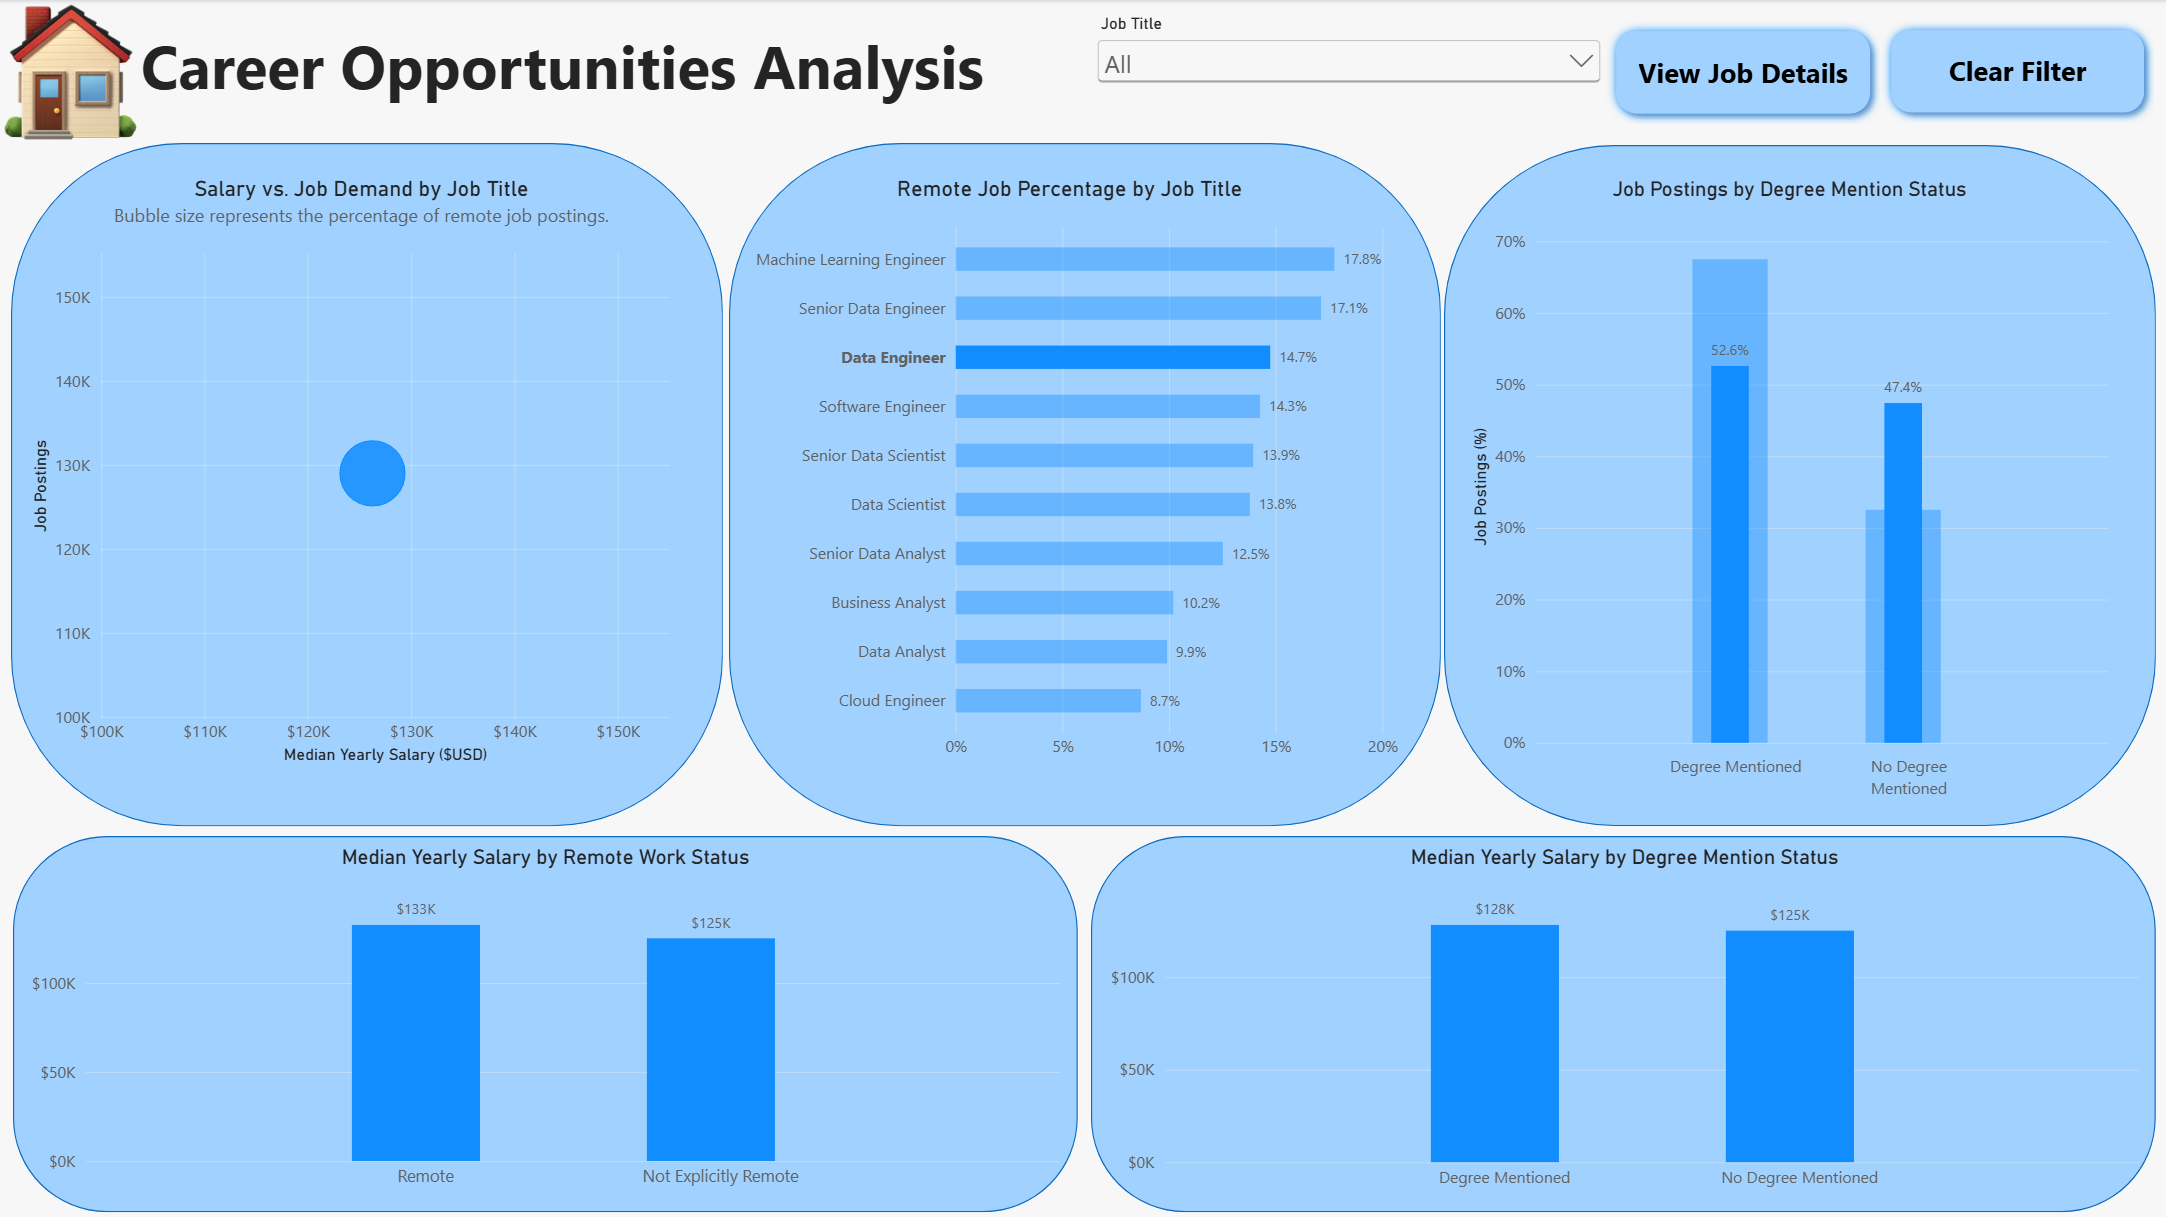

The dashboard page shown, as its layout file describes it:
{"tool":"powerbi","page":{"name":"Career Opportunities Analysis","canvas":[1920,1080],"ordinal":1},"visuals":[{"type":"group","id":"g1","title":"Background","box":[10.1,126.8,1898.9,946.7],"z":0},{"type":"shape","box":[10.1,126.8,630.3,604.9],"z":0,"group":"g1"},{"type":"scatterChart","title":"Salary vs. Job Demand by Job Title","fields":{"Category":["job_postings_flat.job_title_short"],"Size":["job_postings_flat.Remote Job %"],"X":["Median(job_postings_flat.salary_year_avg)"],"Y":["job_postings_flat.Job Count"]},"box":[11.9,141.3,617,550],"z":1000},{"type":"shape","box":[12.1,740.4,942.5,333],"z":1000,"group":"g1"},{"type":"shape","box":[645.4,126.8,630.3,604.9],"z":2000,"group":"g1"},{"type":"barChart","title":"Remote Job Percentage by Job Title","fields":{"Category":["job_postings_flat.job_title_short"],"Y":["job_postings_flat.Remote Job %"]},"box":[640.3,141.3,613.6,550.4],"z":2000},{"type":"shape","box":[1278.6,128.7,630.3,603],"z":3000,"group":"g1"},{"type":"columnChart","title":"Job Postings by Degree Mention Status","fields":{"Category":["job_postings_flat.Degree Mention Status"],"Y":["job_postings_flat.Job Count"]},"box":[1286.6,142.3,595.9,583],"z":3000},{"type":"columnChart","title":"Median Yearly Salary by Remote Work Status","fields":{"Category":["job_postings_flat.Remote Work Status"],"Y":["Median(job_postings_flat.salary_year_avg)"]},"box":[11.9,734.2,942.7,338.9],"z":4000},{"type":"shape","box":[966.4,740.4,942.5,333],"z":4000,"group":"g1"},{"type":"columnChart","title":"Median Yearly Salary by Degree Mention Status","fields":{"Category":["job_postings_flat.Degree Mention Status"],"Y":["Median(job_postings_flat.salary_year_avg)"]},"box":[966.4,734.2,942.7,338.9],"z":5000},{"type":"image","box":[0,0,125,126],"z":6000},{"type":"slicer","fields":{"Values":["job_postings_flat.job_title_short"]},"box":[966.7,12,455,110],"z":7000},{"type":"textbox","box":[125,20,778.4,87.4],"z":8000},{"type":"actionButton","box":[1422.1,18.2,242.9,91.1],"z":9000},{"type":"actionButton","box":[1665,18,242,91],"z":10000}]}

Visuals, with their boxes in screenshot pixels (x1, y1, x2, y2), scaled from the page's 1920x1080 canvas onto the 2166x1217 screenshot:
"Background" group: box=[11, 143, 2154, 1210]
shape: box=[11, 143, 722, 825]
"Salary vs. Job Demand by Job Title" scatterChart: box=[13, 159, 709, 779]
shape: box=[14, 834, 1077, 1210]
shape: box=[728, 143, 1439, 825]
"Remote Job Percentage by Job Title" barChart: box=[722, 159, 1415, 779]
shape: box=[1442, 145, 2153, 825]
"Job Postings by Degree Mention Status" columnChart: box=[1451, 160, 2124, 817]
"Median Yearly Salary by Remote Work Status" columnChart: box=[13, 827, 1077, 1209]
shape: box=[1090, 834, 2153, 1210]
"Median Yearly Salary by Degree Mention Status" columnChart: box=[1090, 827, 2154, 1209]
image: box=[0, 0, 141, 142]
slicer - job_postings_flat.job_title_short: box=[1091, 14, 1604, 137]
textbox: box=[141, 23, 1019, 121]
actionButton: box=[1604, 21, 1878, 123]
actionButton: box=[1878, 20, 2151, 123]
